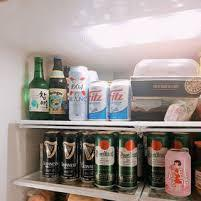soju: (22, 53, 50, 119)
